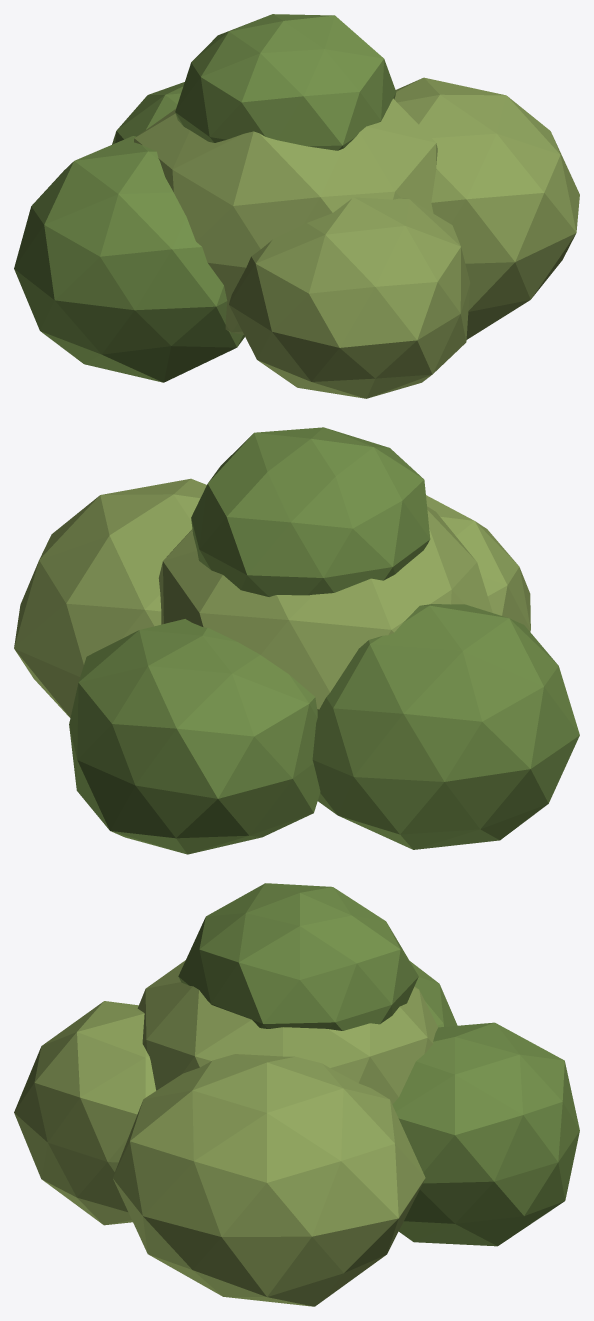
Rendered from Bush.glb.
3 renders of one model, top to bottom at view 1: azimuth 30°, elevation 25°; view 2: azimuth 150°, elevation 25°; view 3: azimuth 270°, elevation 25°, orthographic. The views are drawn at different scales.
Parts seen in each view (by area): view 1: Bush; view 2: Bush; view 3: Bush.
Boxes of the visible parts, left/top/right/bottom form: Bush: left=14, top=14, right=579, bottom=398; Bush: left=14, top=427, right=579, bottom=854; Bush: left=14, top=883, right=579, bottom=1306.
Bounding box in the file's own units: 1.38 × 0.8457 × 1.33.
